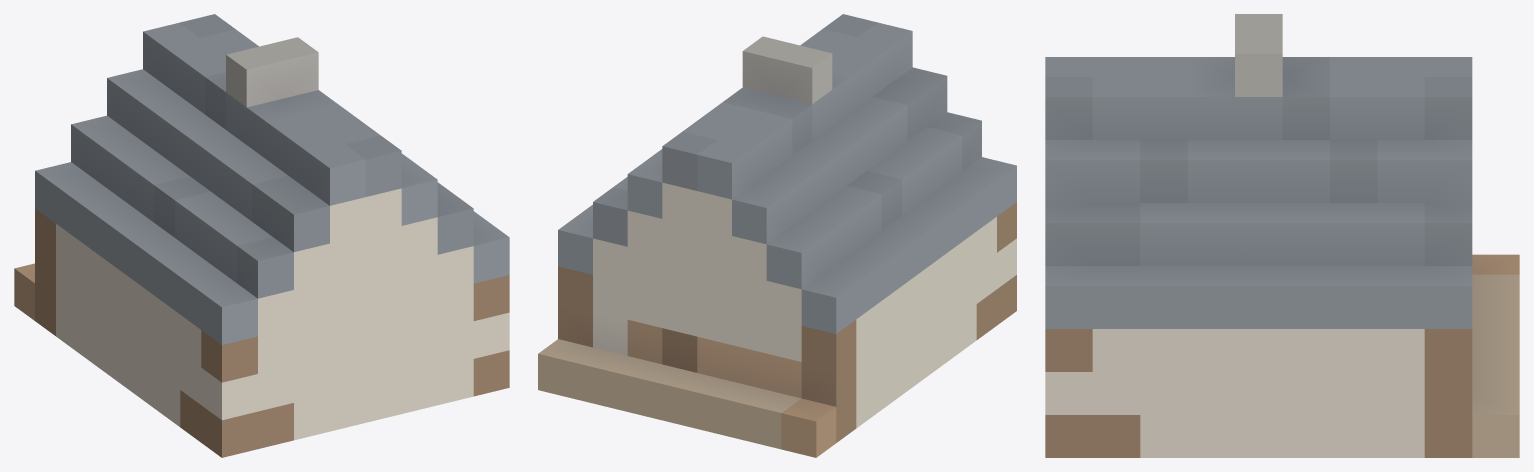
The model's file is dyer.lite.glb.
The picture shows the model from 3 angles, left to right: view 1: azimuth 30°, elevation 25°; view 2: azimuth 150°, elevation 25°; view 3: azimuth 270°, elevation 25°; orthographic projection. The views are drawn at different scales.
Visible parts, largest first — view 1: dyer; view 2: dyer; view 3: dyer.
Part boxes in pixels (box(x1,y1,x2,y2)): dyer: box(14, 14, 509, 457); dyer: box(538, 14, 1016, 457); dyer: box(1045, 14, 1519, 457).
Size of the model in its own units: 4 by 4 by 5.
